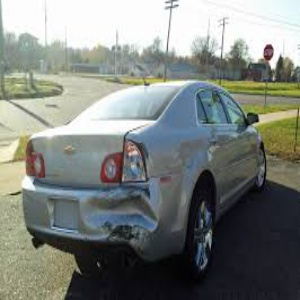bumper: (51, 186, 172, 253)
